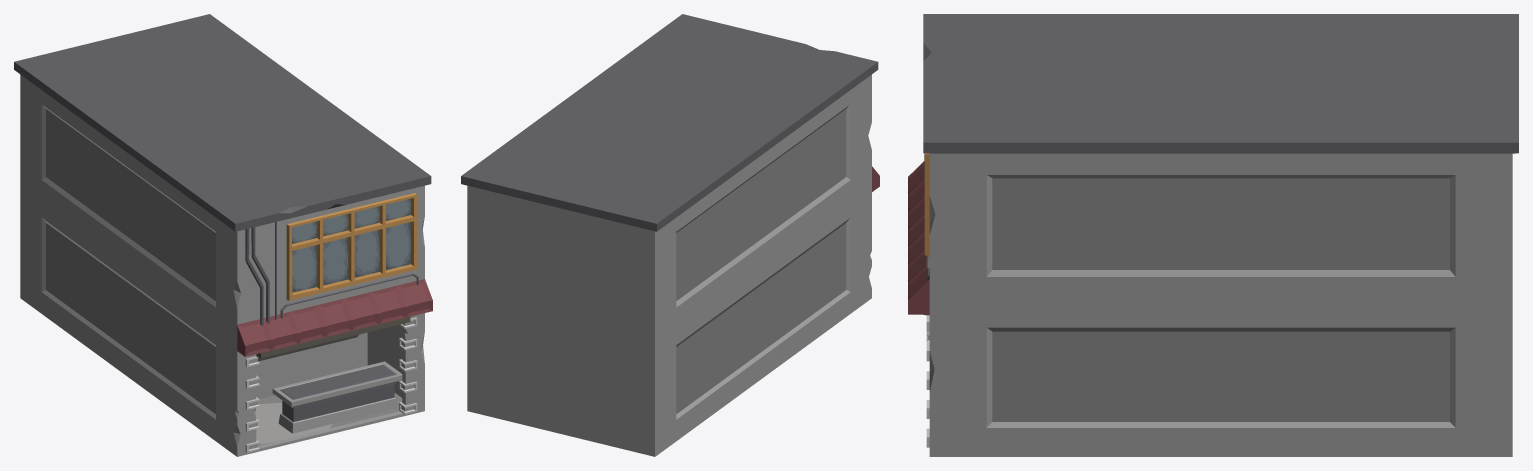
Rendered from SM_Bld_Chopshop_01_Modified.fbx.
3 renders of one model, left to right at view 1: azimuth 30°, elevation 25°; view 2: azimuth 150°, elevation 25°; view 3: azimuth 270°, elevation 25°, orthographic. The views are drawn at different scales.
Parts seen in each view (by area): view 1: SM_Bld_Chopshop_01, SM_Bld_Chopshop_01.001; view 2: SM_Bld_Chopshop_01; view 3: SM_Bld_Chopshop_01.
Part boxes in pixels (<box>): SM_Bld_Chopshop_01: <box>14,14,432,456</box>; SM_Bld_Chopshop_01.001: <box>245,317,417,452</box>; SM_Bld_Chopshop_01: <box>461,14,879,456</box>; SM_Bld_Chopshop_01: <box>908,14,1518,456</box>.
Bounding box in the file's own units: 521 × 600 × 1048.
